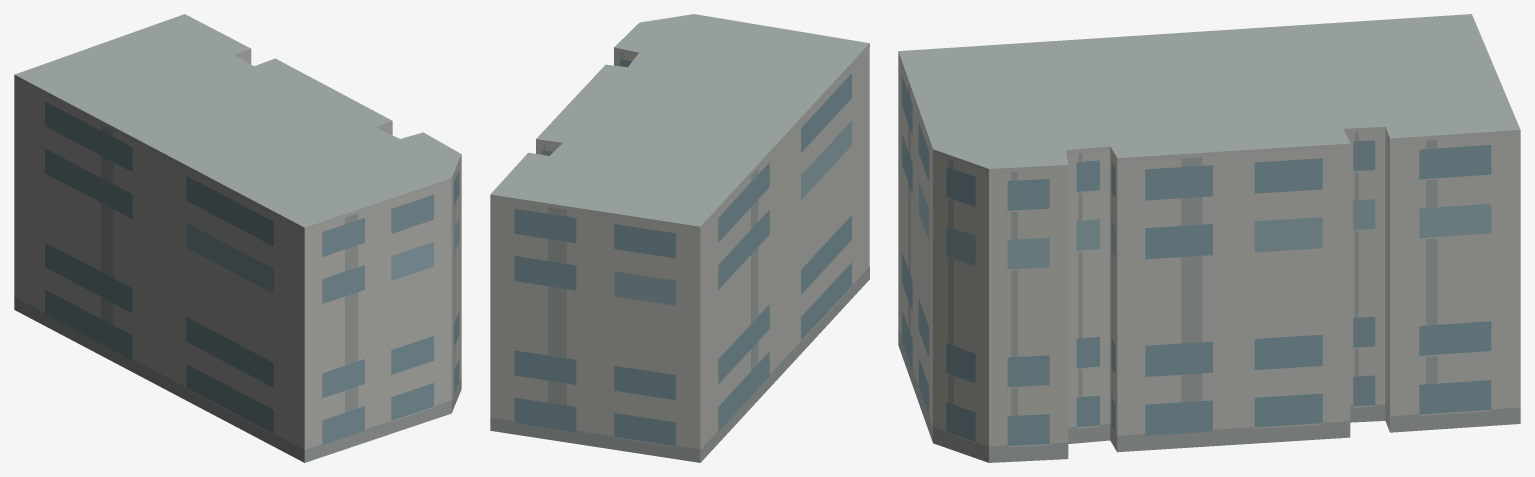
The model's file is survey-upis-32576124.glb.
3 renders of one model, left to right at view 1: azimuth 30°, elevation 25°; view 2: azimuth 150°, elevation 25°; view 3: azimuth 270°, elevation 25°, orthographic. The views are drawn at different scales.
Parts seen in each view (by area): view 1: survey-upis-32576124.tmp; view 2: survey-upis-32576124.tmp; view 3: survey-upis-32576124.tmp.
Part boxes in pixels (left/top/right/bottom): survey-upis-32576124.tmp: left=14, top=14, right=461, bottom=462; survey-upis-32576124.tmp: left=490, top=14, right=869, bottom=462; survey-upis-32576124.tmp: left=898, top=14, right=1520, bottom=462.
Size of the model in its own units: 17.91 by 15.85 by 30.41.
